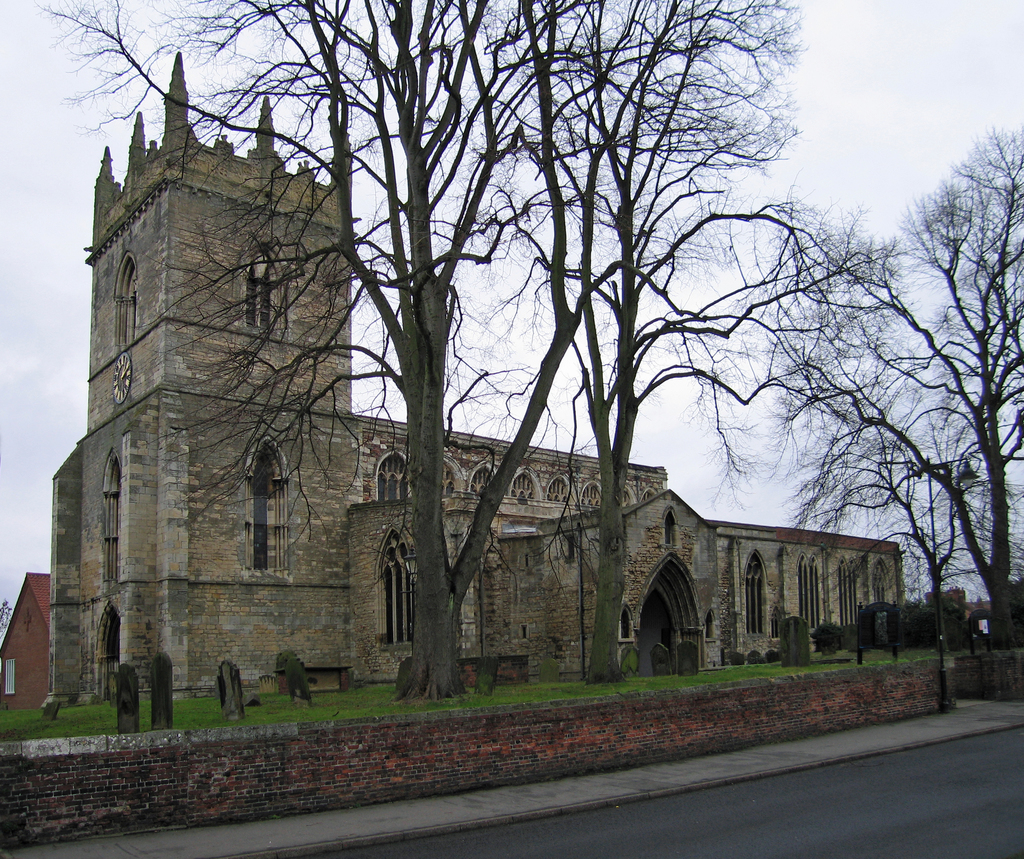Tree: (24, 0, 855, 699), (398, 0, 890, 684), (721, 118, 1023, 650), (0, 602, 14, 659)
